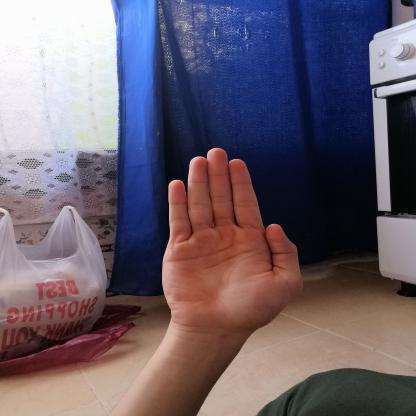SEEN: (148, 139, 313, 340)
